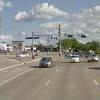Car: (35, 51, 58, 74)
